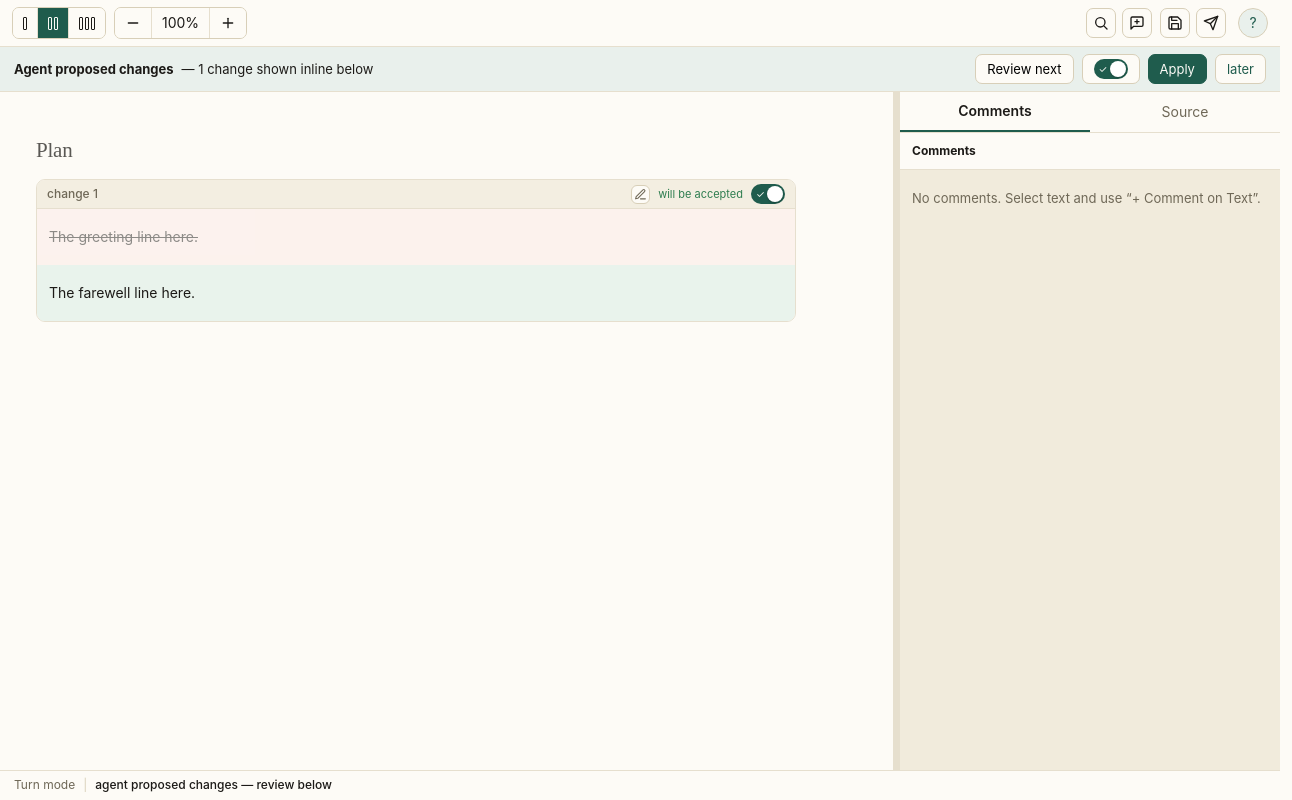
Test case: App applyProposal span demotion (memory-backed) › demotes a review-time span comment to doc-level when its anchor doesn't survive Accept, keeping replies linked and the doc valid
Click the button named "comment on text".
click(1137, 23)  # box [1122,8,1152,38]
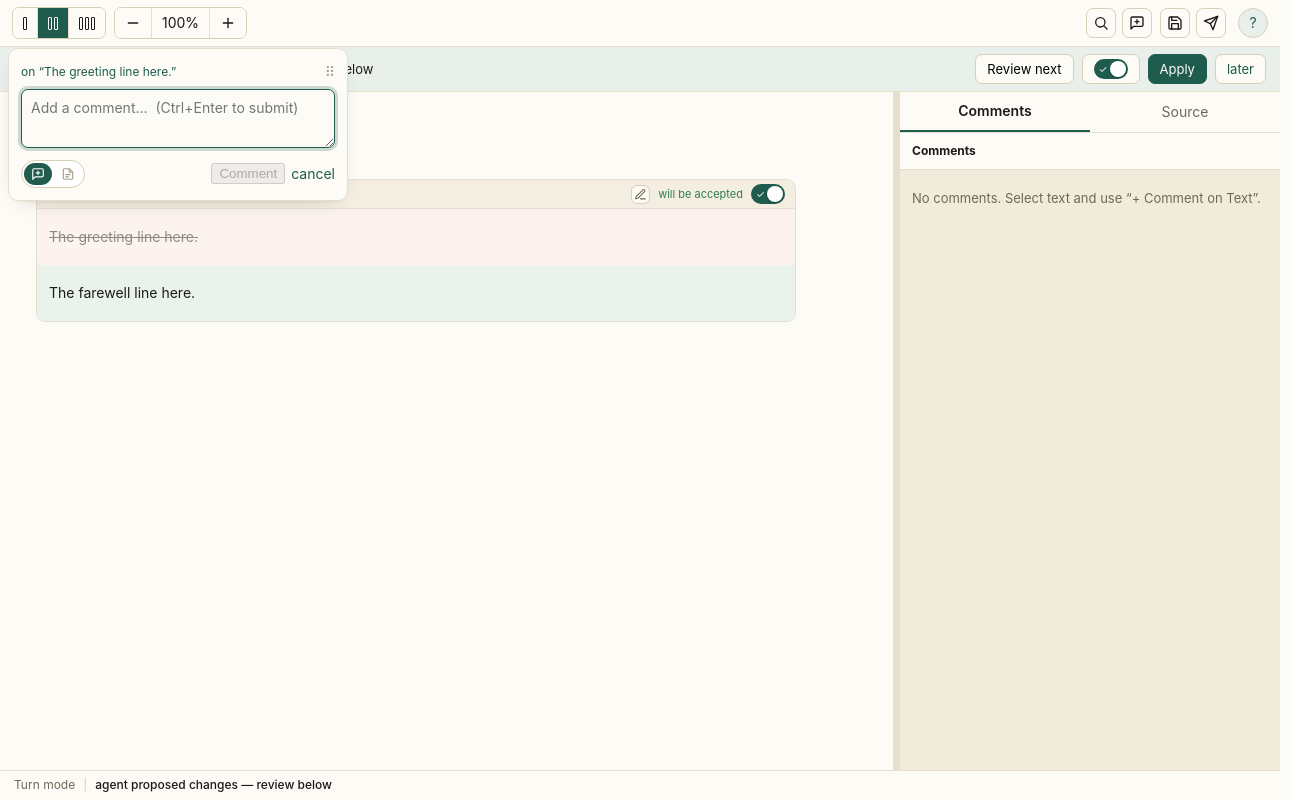
Type "Reconsider this whole line." into the dropdown with placeholder "Add a comment… (Ctrl+Enter to submit)".
click(178, 118); type("Reconsider this whole line.")  # box [21,89,335,148]
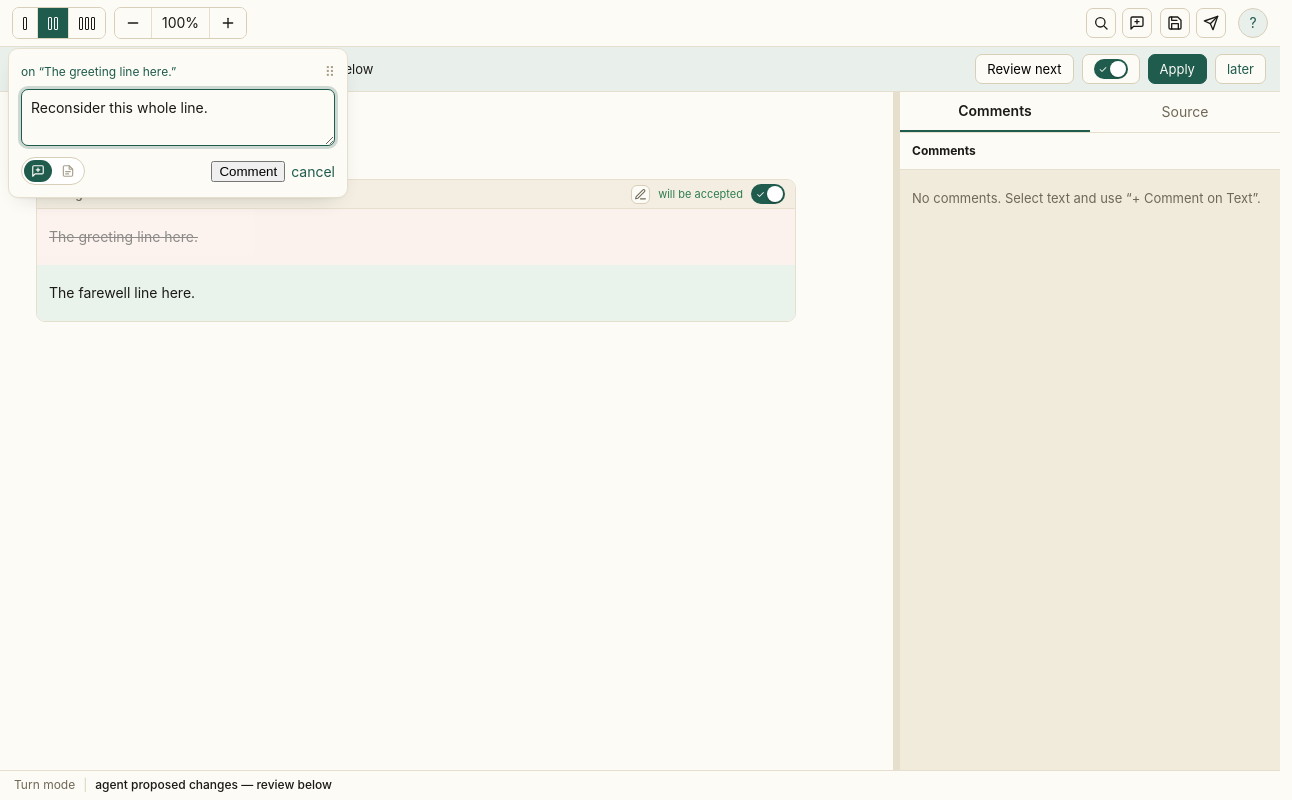
Click the button "Comment".
click(248, 171)  # box [211,161,285,182]
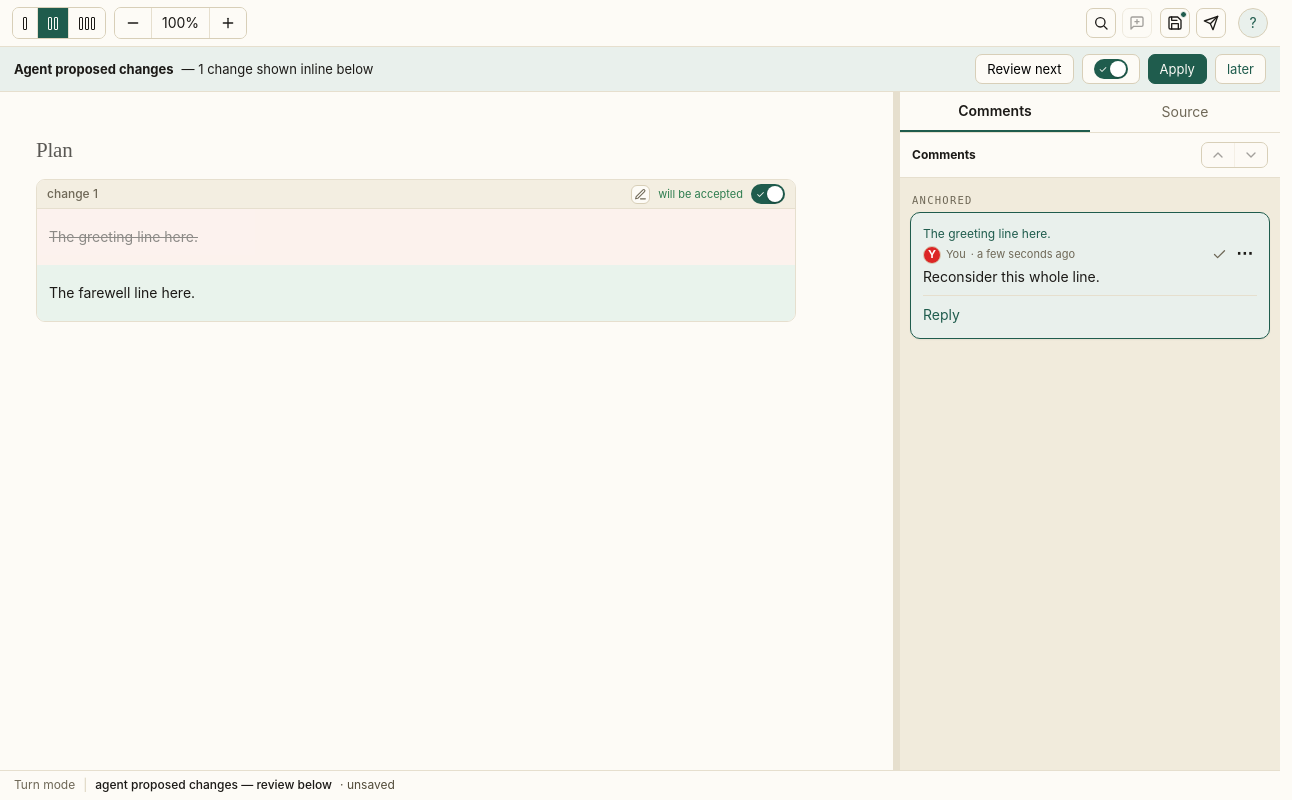
Result: the text "Reconsider this whole line." is shown at [923,268,1100,285]
// The human adds a REPLY to that span thread — a child whose parentId points at the span.
Click the button "Reply".
click(941, 315)  # box [923,304,960,326]
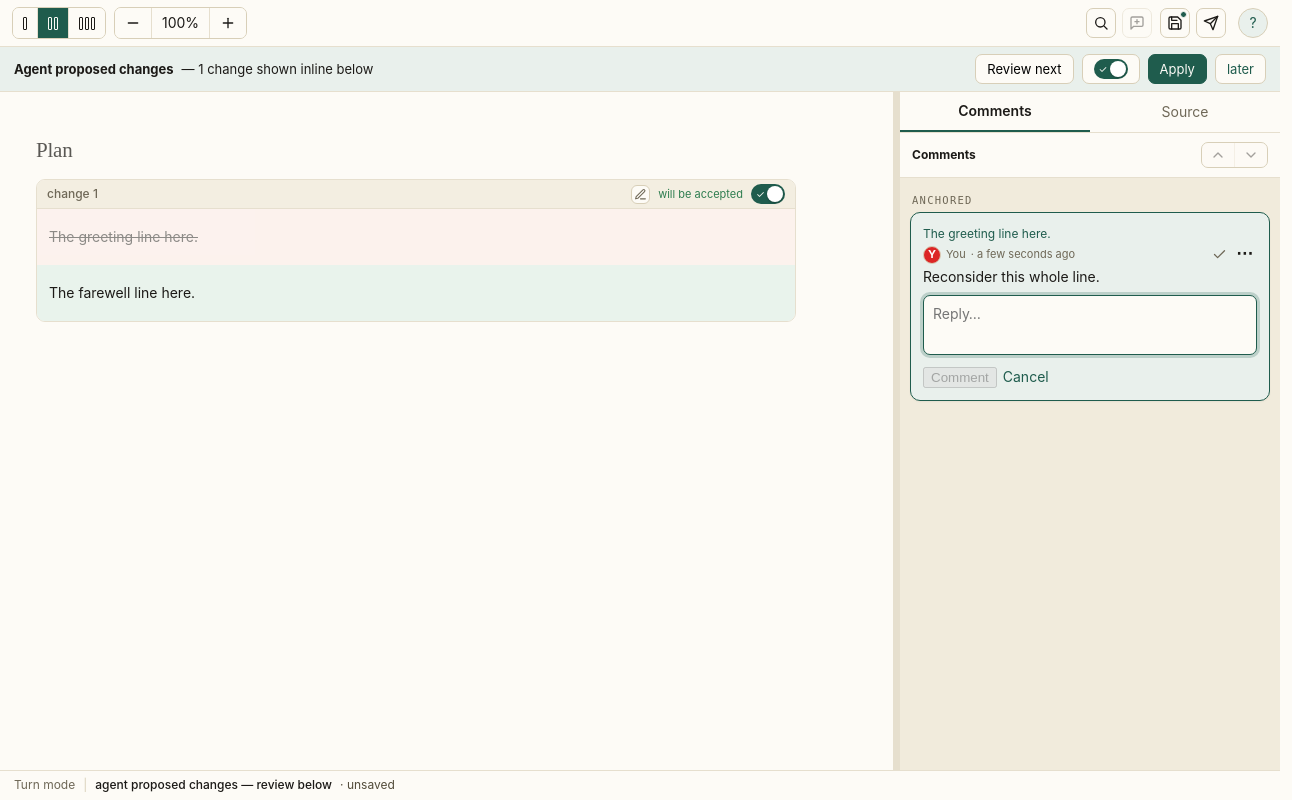
Type "Agreed, rephrase it." into the dropdown with placeholder "Reply…".
click(1090, 325); type("Agreed, rephrase it.")  # box [923,295,1257,355]
Click the button "Comment".
click(960, 377)  # box [923,367,997,388]
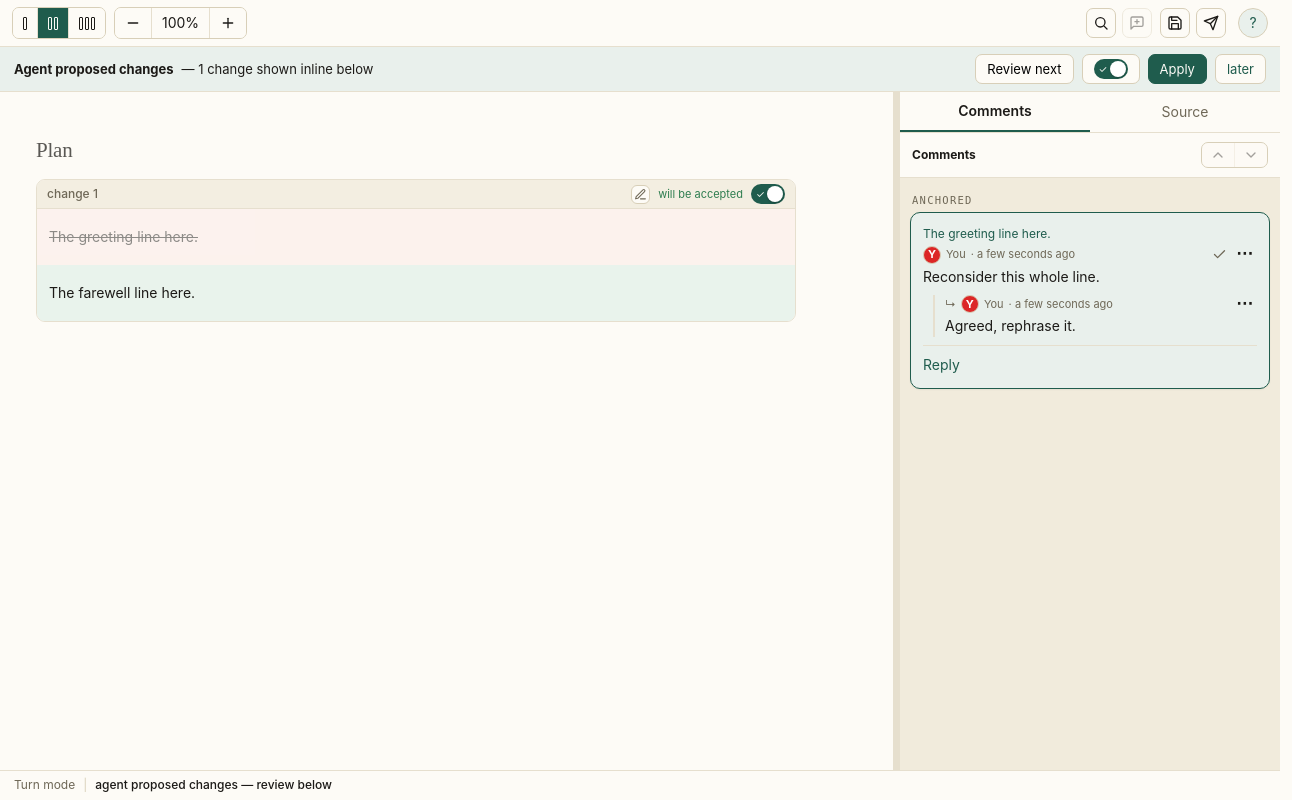
Result: the text "Agreed, rephrase it." is shown at [945,317,1076,334]
Click the button "Apply".
click(1177, 69)  # box [1148,54,1207,84]
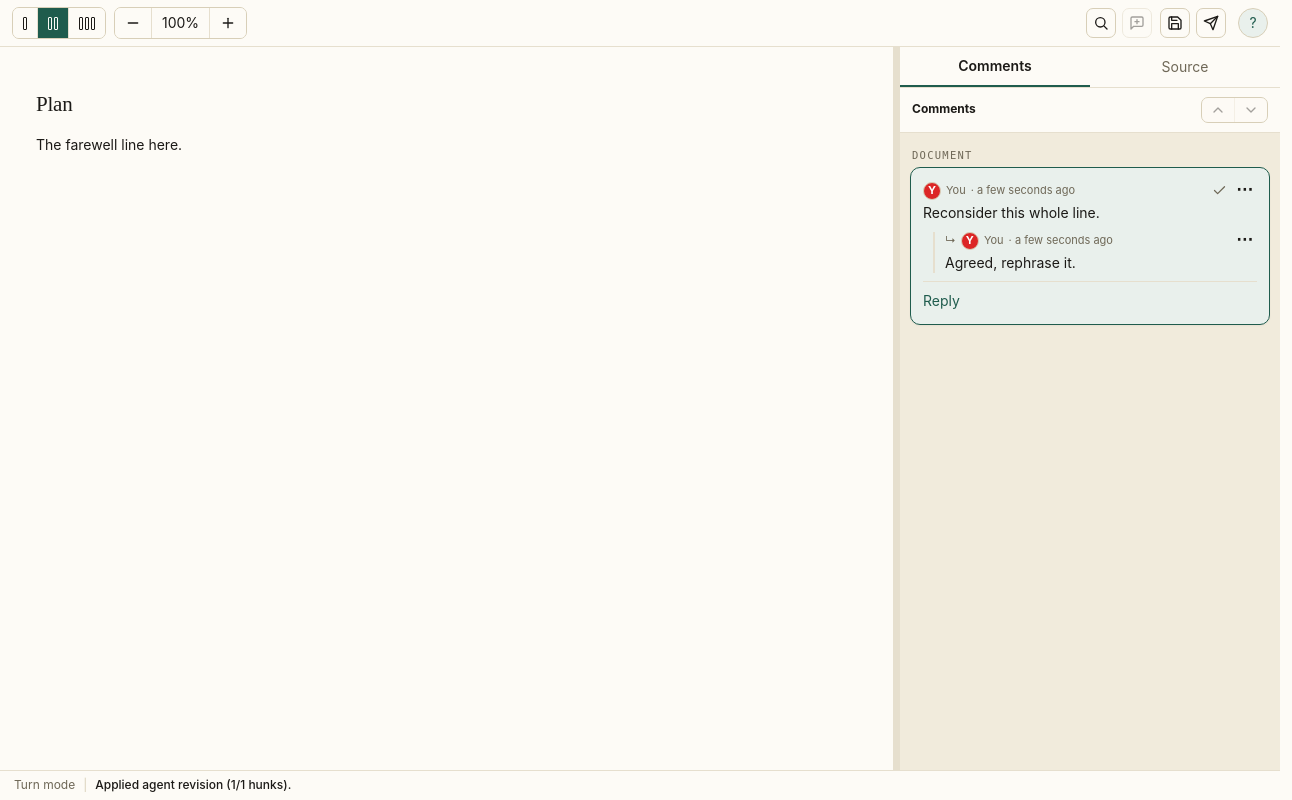
Result: the text "Reconsider this whole line." is shown at [923,204,1100,221]
Result: the text "Agent proposed changes" is gone
Result: the text "The greeting line here." is gone
